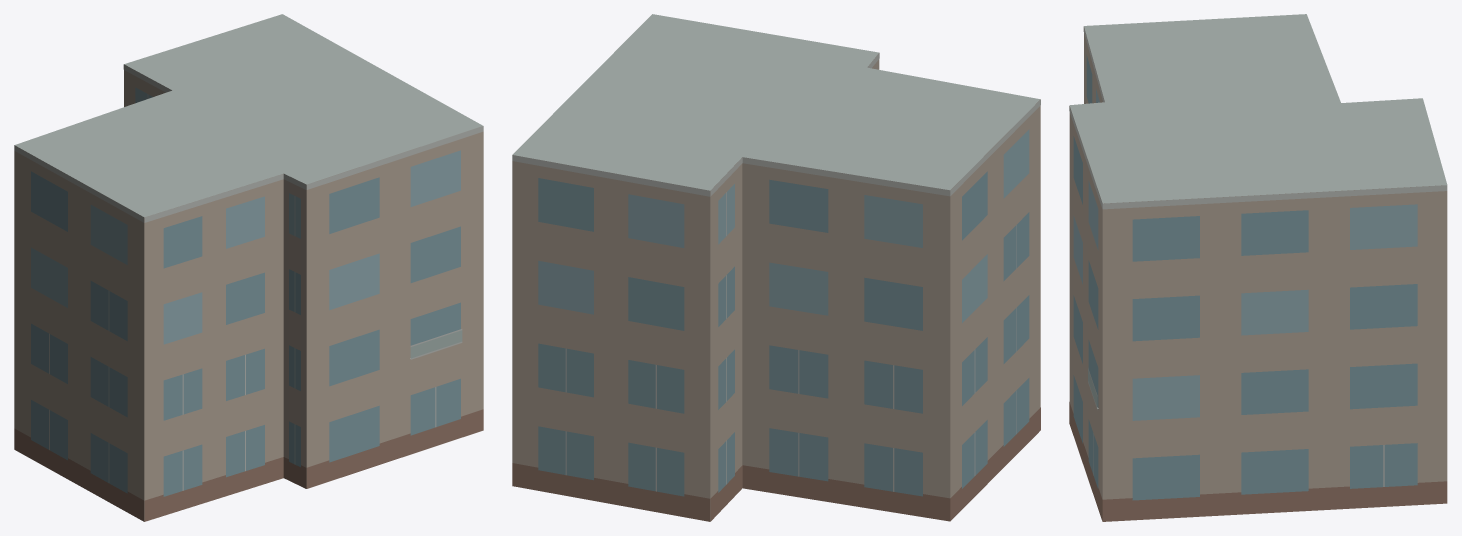
The model's file is survey-upis-32702224.glb.
3 renders of one model, left to right at view 1: azimuth 30°, elevation 25°; view 2: azimuth 150°, elevation 25°; view 3: azimuth 270°, elevation 25°, orthographic. The views are drawn at different scales.
Parts seen in each view (by area): view 1: survey-upis-32702224.tmp; view 2: survey-upis-32702224.tmp; view 3: survey-upis-32702224.tmp.
Part boxes in pixels (x1=…): survey-upis-32702224.tmp: x1=14, y1=14, x2=483, y2=521; survey-upis-32702224.tmp: x1=512, y1=14, x2=1040, y2=521; survey-upis-32702224.tmp: x1=1069, y1=14, x2=1447, y2=521.
Size of the model in its own units: 16.86 by 13.2 by 14.21.
